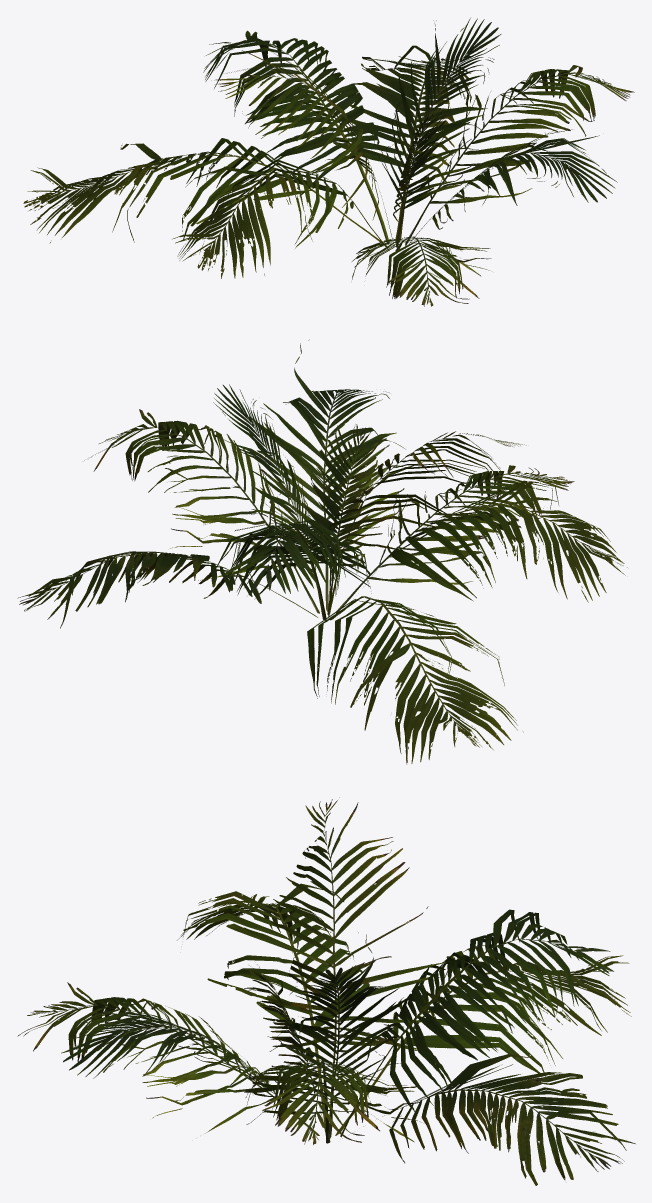
File: QuixelPalmLeavesB.glb
3 renders of one model, top to bottom at view 1: azimuth 30°, elevation 25°; view 2: azimuth 150°, elevation 25°; view 3: azimuth 270°, elevation 25°, orthographic. The views are drawn at different scales.
Visible parts, largest first — view 1: _1f28_VarB_LOD2; view 2: _1f28_VarB_LOD2; view 3: _1f28_VarB_LOD2.
Boxes of the visible parts, bbox=[...] form: _1f28_VarB_LOD2: bbox=[23, 18, 634, 306]; _1f28_VarB_LOD2: bbox=[17, 339, 627, 764]; _1f28_VarB_LOD2: bbox=[17, 797, 635, 1185].
Size of the model in its own units: 2.5 by 1.11 by 2.35.
1 material, 1 textured.
